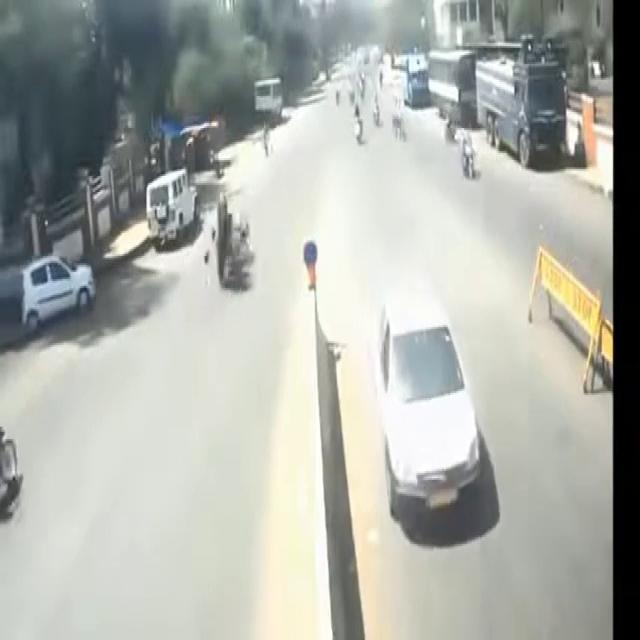accident: (201, 184, 266, 302)
